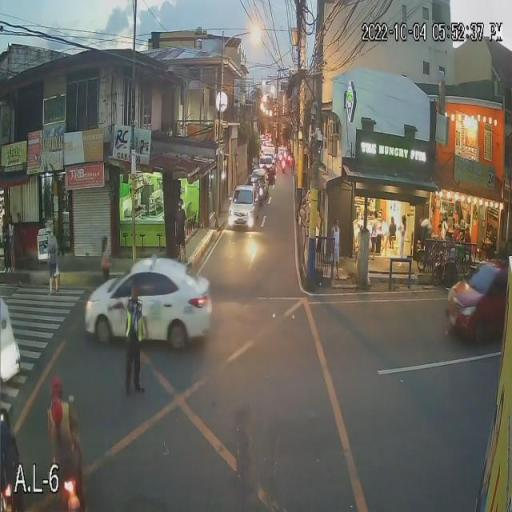motorcycle: (44, 470, 89, 510)
rider: (42, 375, 83, 474)
